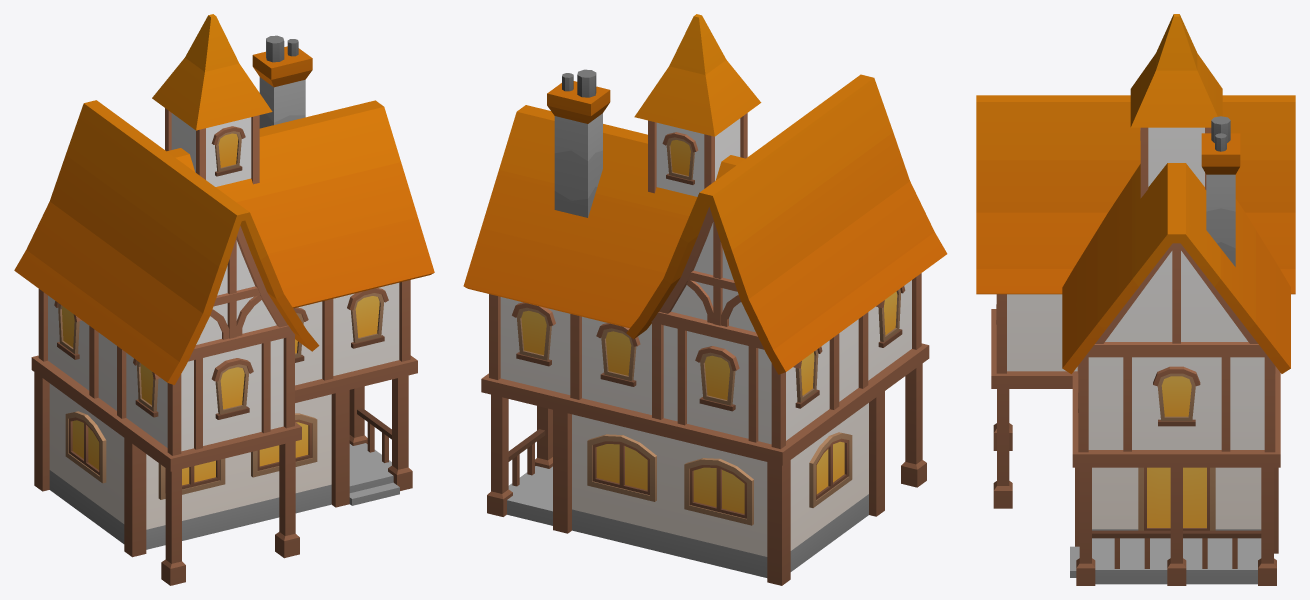
File: mysterious-house.glb
The picture shows the model from 3 angles, left to right: view 1: azimuth 30°, elevation 25°; view 2: azimuth 150°, elevation 25°; view 3: azimuth 270°, elevation 25°; orthographic projection. The views are drawn at different scales.
Parts seen in each view (by area): view 1: mysterious house; view 2: mysterious house; view 3: mysterious house.
Boxes of the visible parts, x1=… form: mysterious house: x1=14, y1=14, x2=434, y2=585; mysterious house: x1=463, y1=14, x2=947, y2=585; mysterious house: x1=976, y1=14, x2=1295, y2=585.
Size of the model in its own units: 6.8 by 9.98 by 5.85.
Materials: 1 (1 with a texture image).
